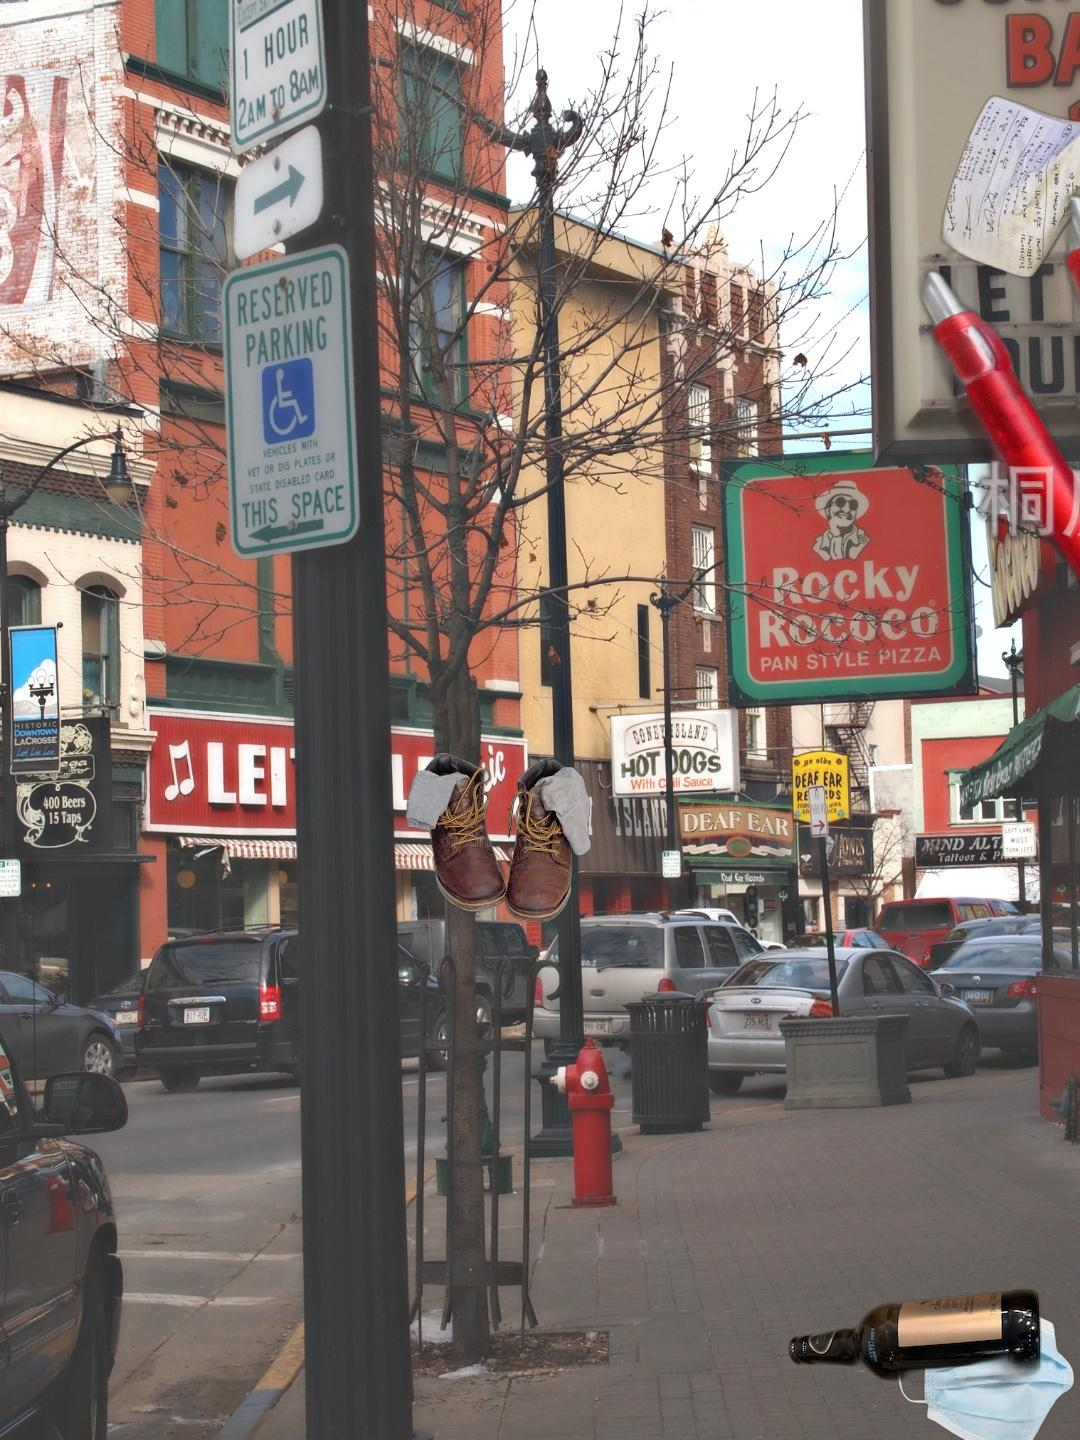glass: (784, 1272, 1080, 1401)
paper: (938, 93, 1080, 279)
penholder: (908, 118, 1080, 986)
shoes: (403, 749, 594, 925)
trash: (895, 1303, 1077, 1440)
